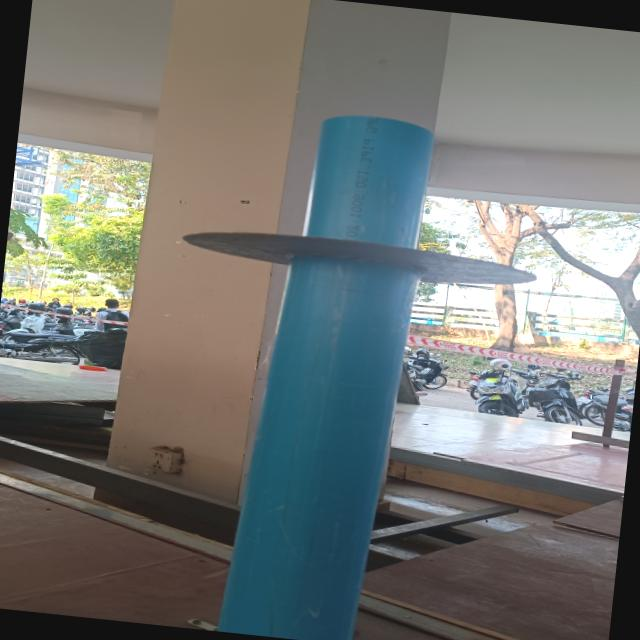pole: (133, 61, 586, 467)
